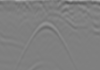hyperbola: (20, 20, 72, 68)
